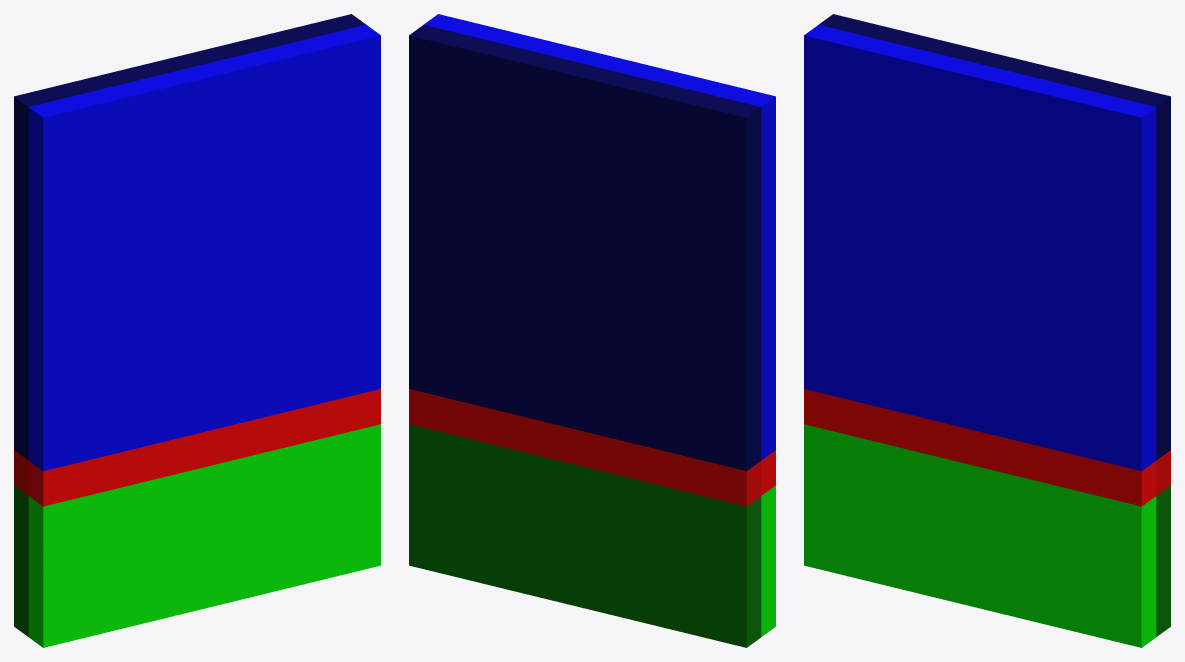
File: wall_bicolor.fbx
The picture shows the model from 3 angles, left to right: view 1: azimuth 30°, elevation 25°; view 2: azimuth 150°, elevation 25°; view 3: azimuth 330°, elevation 25°; orthographic projection.
Parts seen in each view (by area): view 1: wall bicolor; view 2: wall bicolor; view 3: wall bicolor.
Part boxes in pixels (x1,y1,x2,y2): wall bicolor: (14,14,380,647); wall bicolor: (409,14,775,647); wall bicolor: (804,14,1170,647).
Size of the model in its own units: 200 by 300 by 30.
